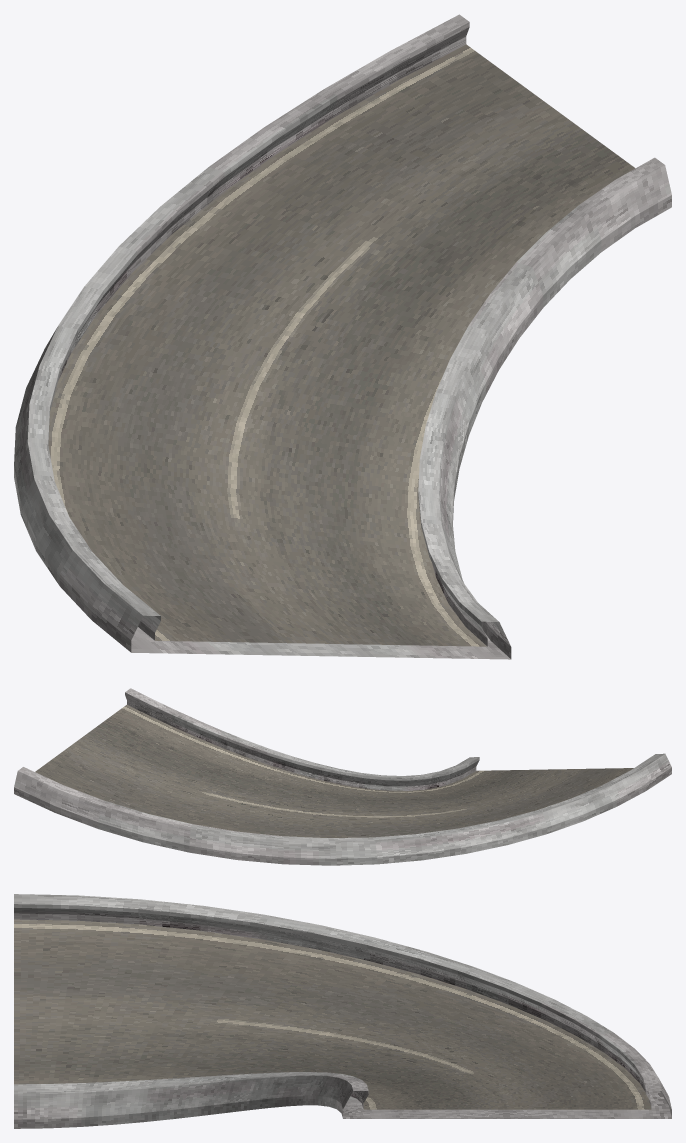
File: road-Turn-HalfBankedRight-BiSlopeUp-Up2-Right-Size2.glb
3 renders of one model, top to bottom at view 1: azimuth 30°, elevation 25°; view 2: azimuth 150°, elevation 25°; view 3: azimuth 270°, elevation 25°, orthographic. The views are drawn at different scales.
Parts seen in each view (by area): view 1: road-Turn-HalfBankedRight-BiSlopeUp-Up2-Right-Size2; view 2: road-Turn-HalfBankedRight-BiSlopeUp-Up2-Right-Size2; view 3: road-Turn-HalfBankedRight-BiSlopeUp-Up2-Right-Size2.
Part boxes in pixels (<box>): road-Turn-HalfBankedRight-BiSlopeUp-Up2-Right-Size2: <box>14,14,671,659</box>; road-Turn-HalfBankedRight-BiSlopeUp-Up2-Right-Size2: <box>14,688,671,865</box>; road-Turn-HalfBankedRight-BiSlopeUp-Up2-Right-Size2: <box>14,894,671,1128</box>.
Size of the model in its own units: 2 by 0.5937 by 2.
Materials: 2 (2 with a texture image).
